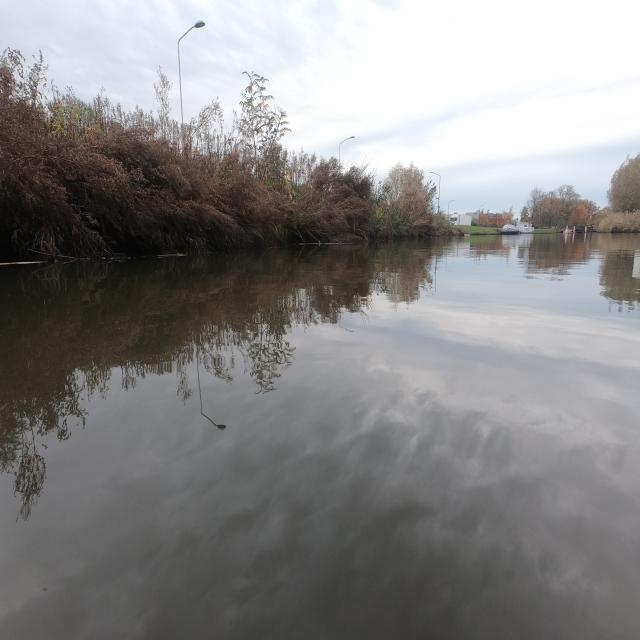boat: (502, 222, 534, 234)
grass: (457, 225, 500, 234)
reed: (0, 49, 448, 261), (594, 209, 639, 232)
sky: (0, 2, 638, 213)
water: (1, 235, 639, 639)
